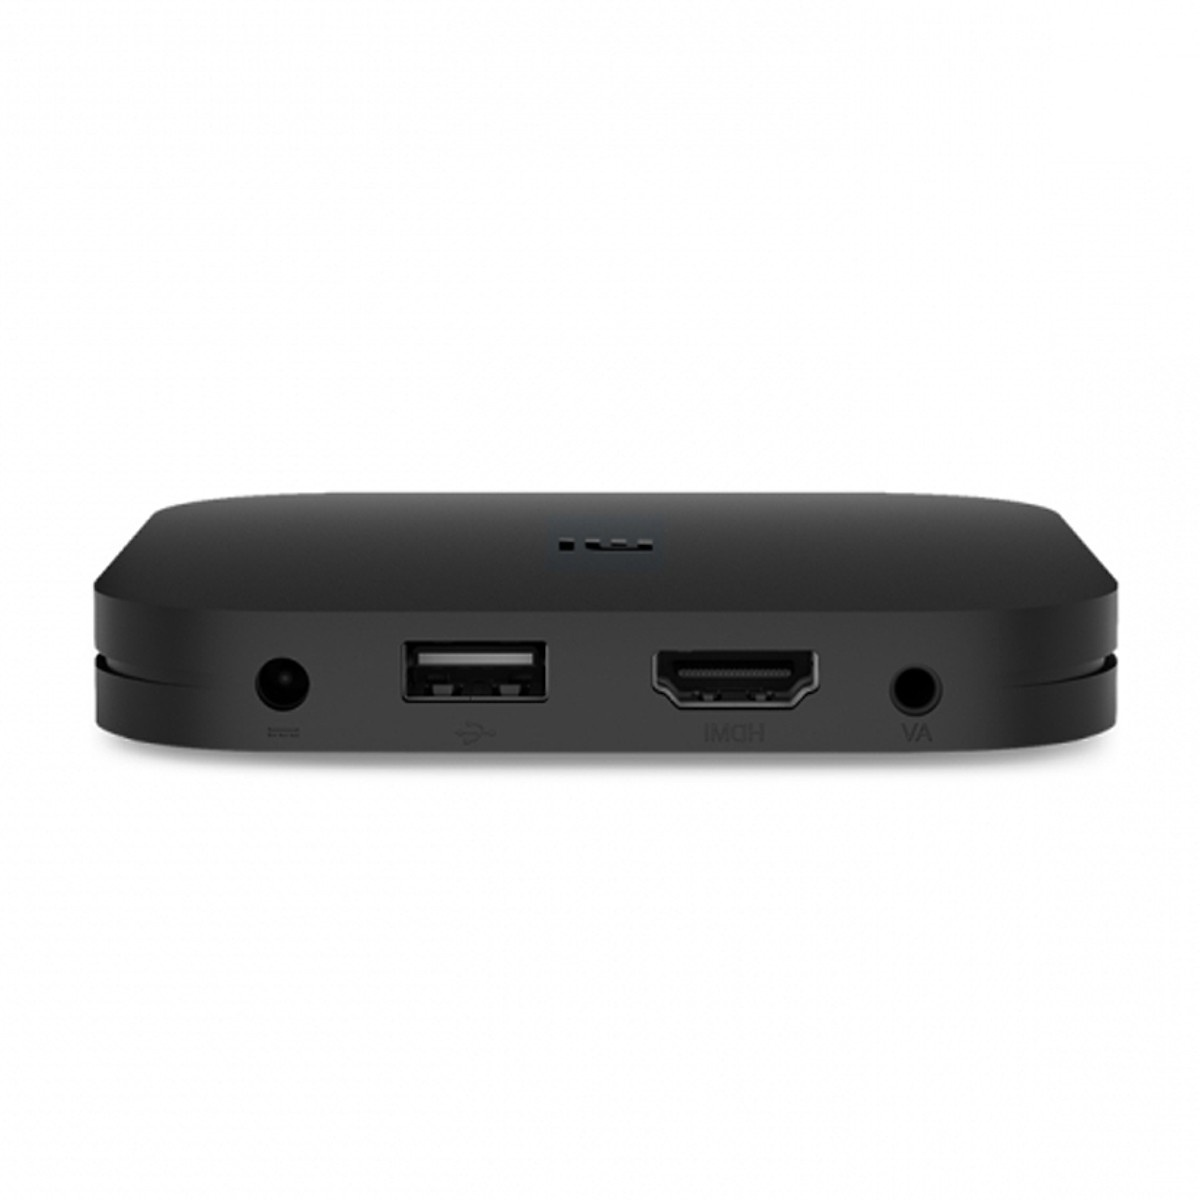Xiaomi: (501, 504, 748, 620)
